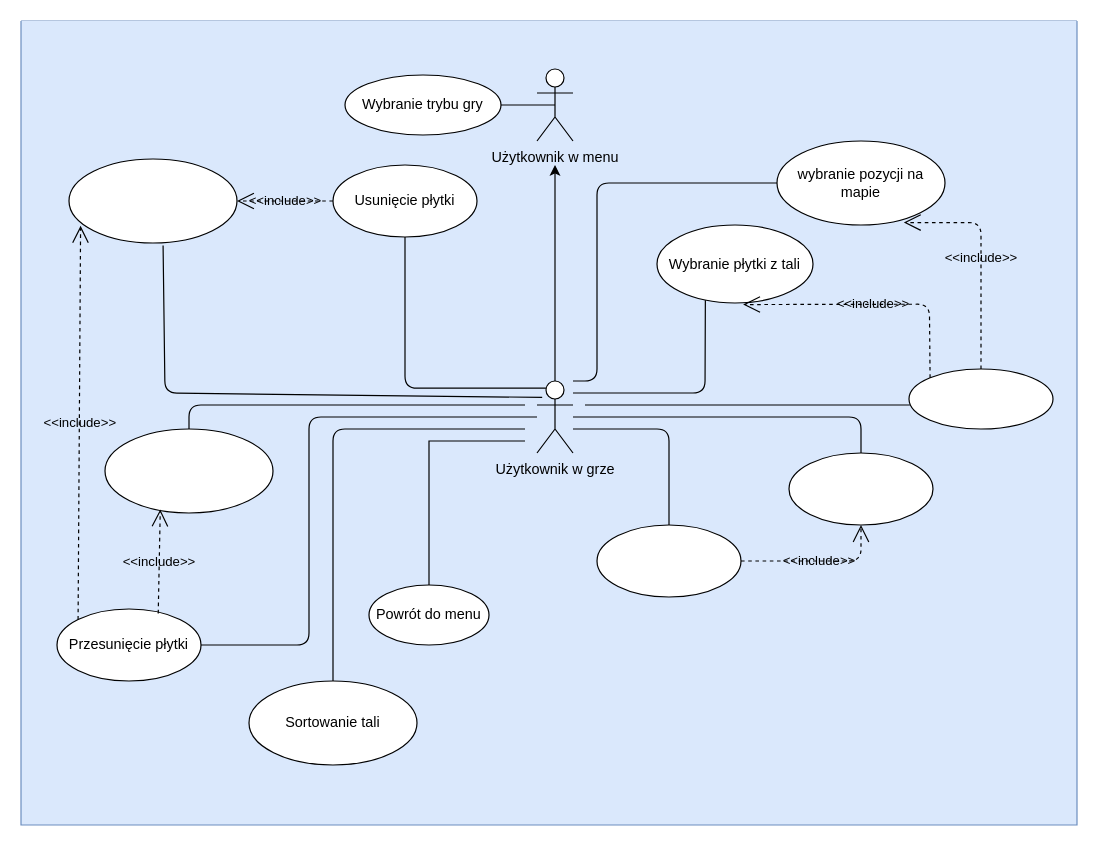
Image size: 1098x846. Some labels were removed from this diagram. The centre of each missing label's shape, as x and y in pixels:
"pobranie płytki" goes at point (668, 560).
"Postawienie płytki" goes at point (980, 398).
"wybranie nowej pozycji na mapie" goes at point (188, 470).
"wybranie płytki na mapie" goes at point (152, 200).
"zakończenie tury" goes at point (860, 488).
